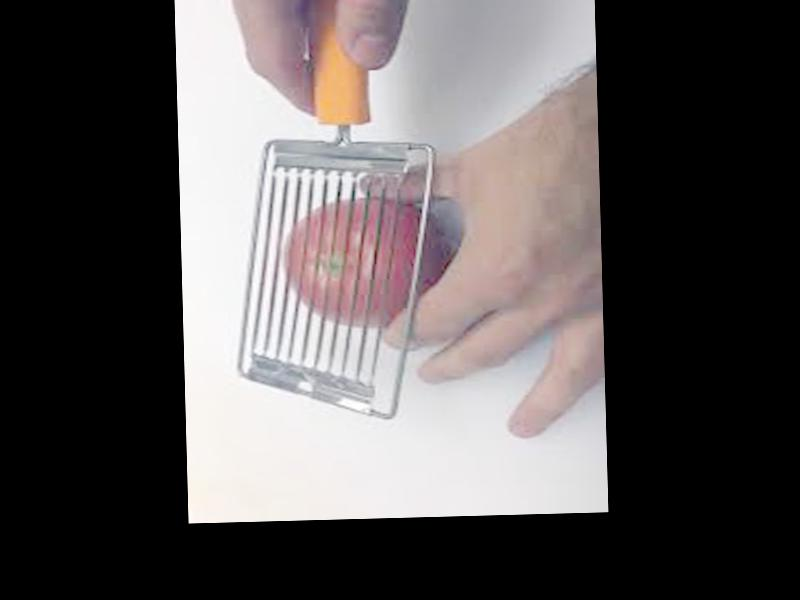Tomato: (282, 193, 446, 326)
